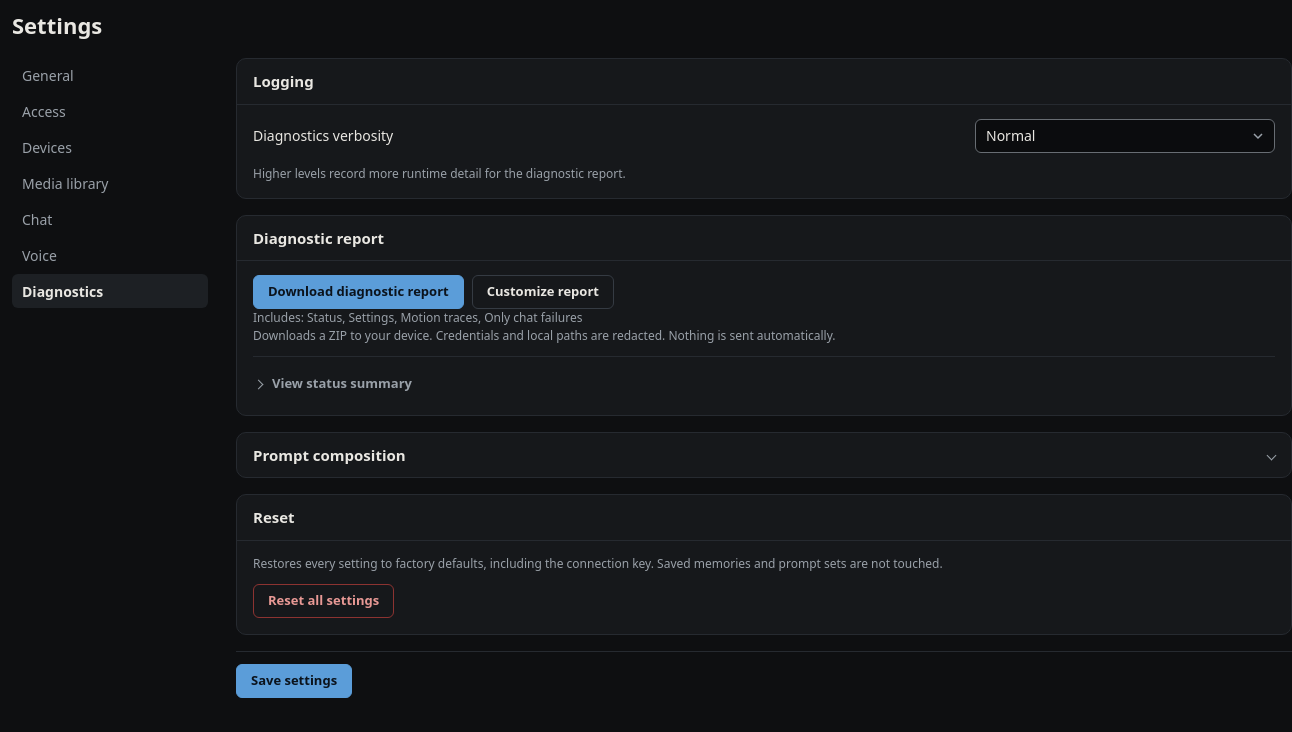
Test case: SettingsRoute › deduplicates Save while the first settings request is pending
Click the button "Save settings" at [294, 681], box x1=236 y1=664 x2=352 y2=698
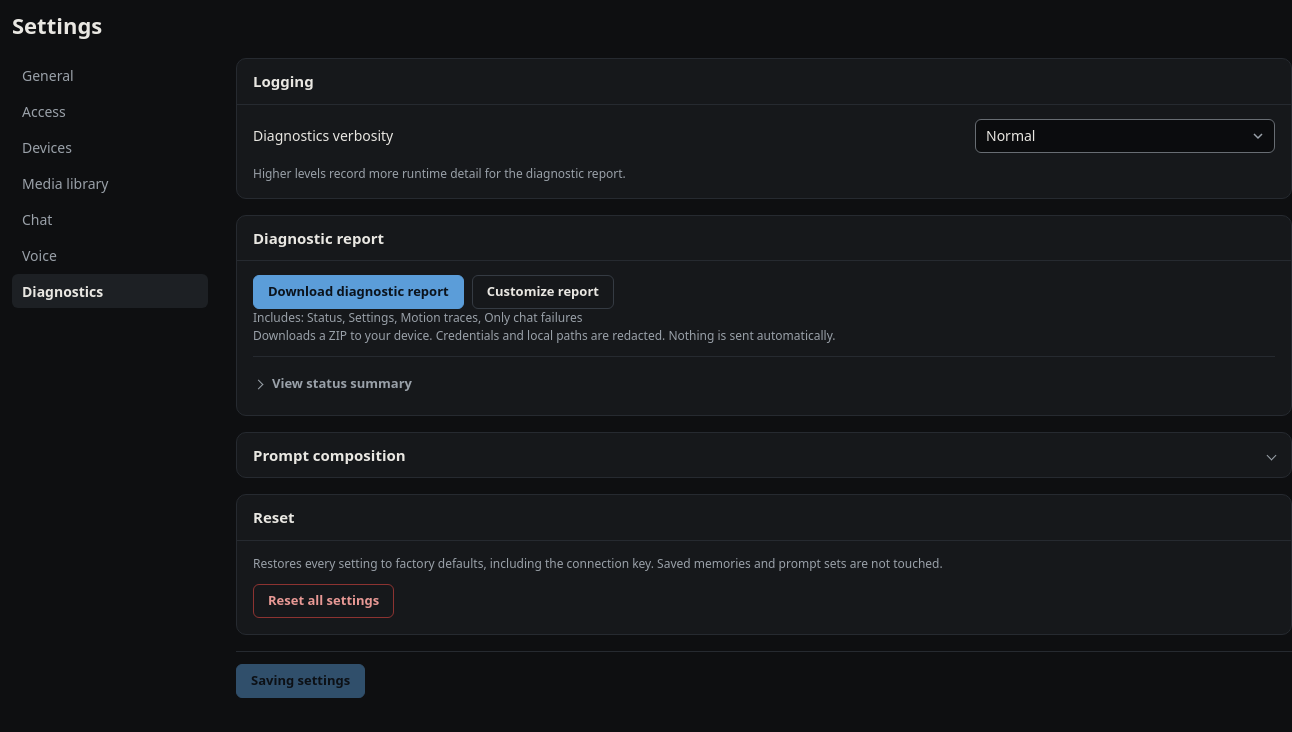
Click the button named "Save settings" at [301, 681], box x1=236 y1=664 x2=365 y2=698
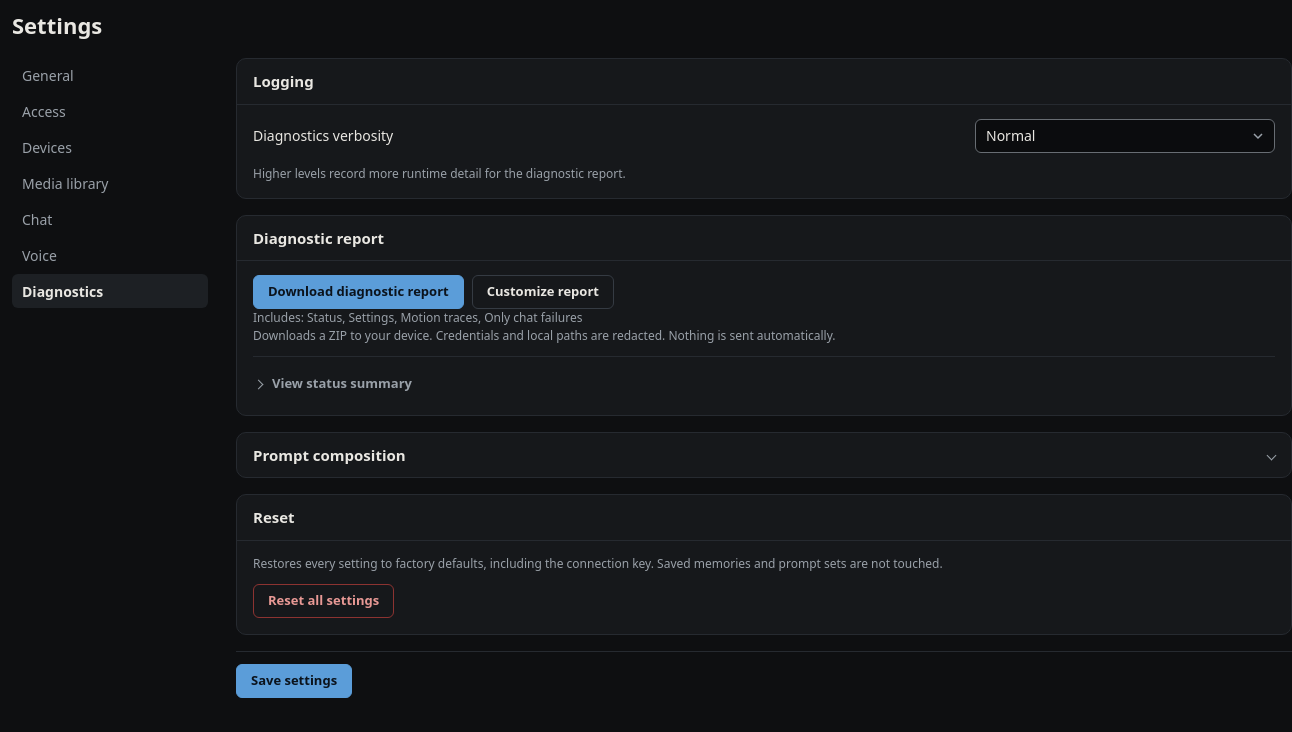
Expected: the button "Save settings" is enabled, x1=236 y1=664 x2=352 y2=698
